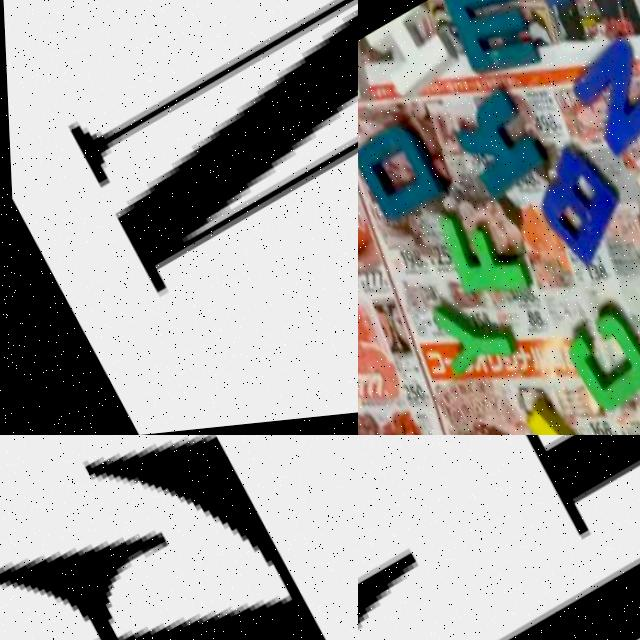B: (520, 146, 633, 283)
C: (553, 301, 640, 423)
D: (358, 108, 446, 240)
F: (425, 190, 530, 317)
G: (358, 435, 640, 640)
H: (365, 3, 455, 102)
K: (442, 80, 552, 213)
L: (489, 389, 605, 435)
M: (432, 0, 546, 90)
N: (43, 0, 358, 322), (560, 31, 640, 166)
P: (514, 0, 609, 21)
Y: (417, 279, 516, 392)
